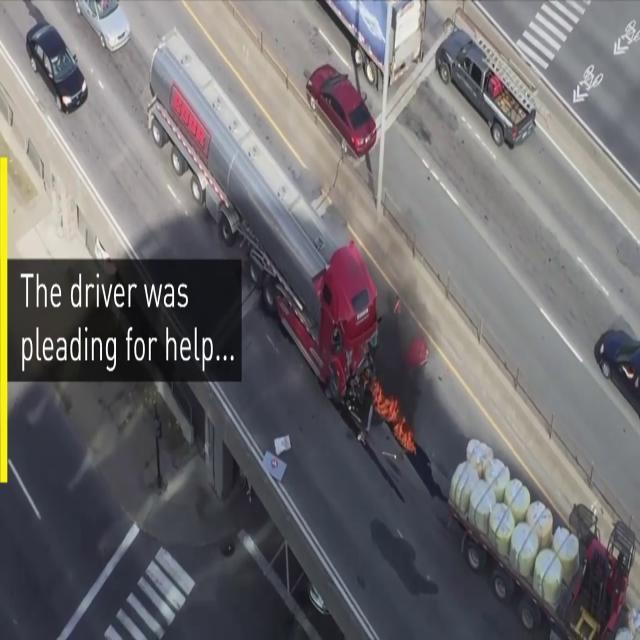Fire: (372, 374, 414, 452)
Smoke: (368, 278, 434, 418)
